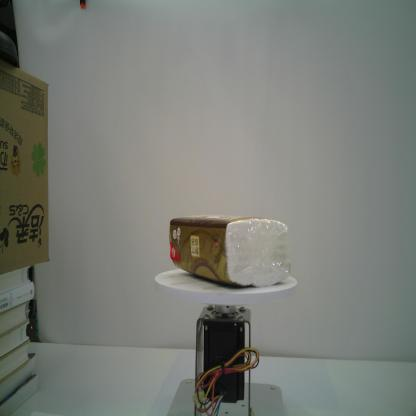Tissue: (168, 213, 291, 290)
